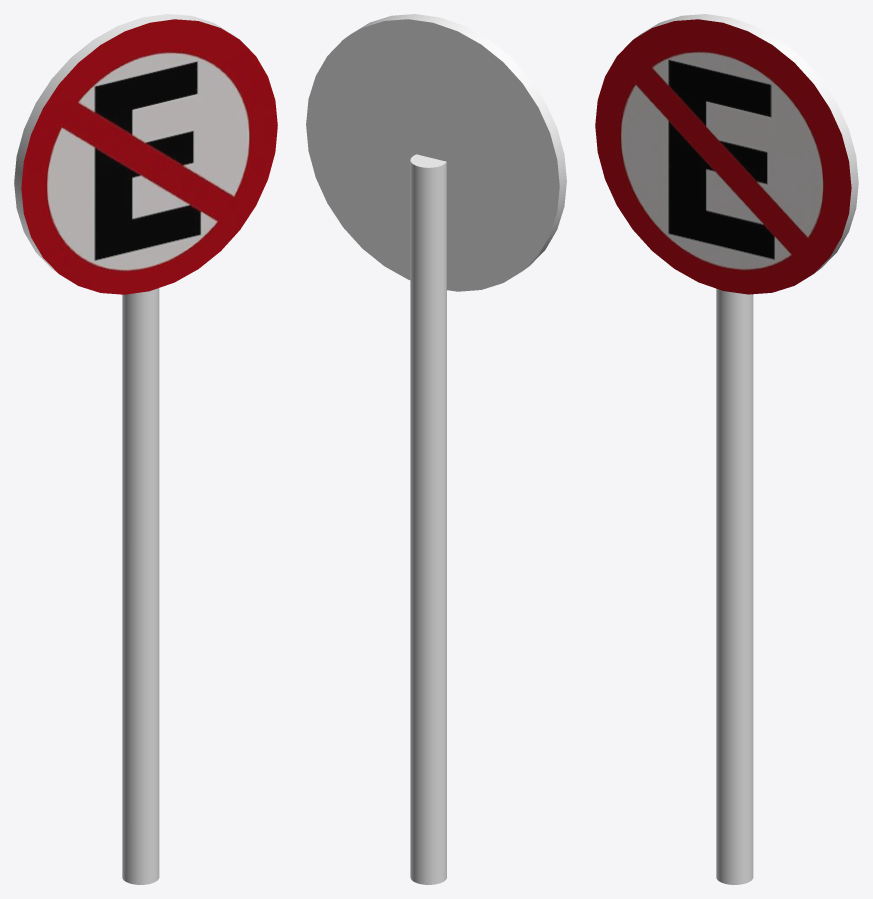
File: PROHIBIDO ESTACIONAR.fbx
3 renders of one model, left to right at view 1: azimuth 30°, elevation 25°; view 2: azimuth 150°, elevation 25°; view 3: azimuth 330°, elevation 25°, orthographic.
Parts seen in each view (by area): view 1: Cylinder.020; view 2: Cylinder.020; view 3: Cylinder.020.
Part boxes in pixels (left/top/right/bottom): Cylinder.020: left=14, top=14, right=277, bottom=884; Cylinder.020: left=306, top=14, right=566, bottom=884; Cylinder.020: left=595, top=14, right=858, bottom=884.
Size of the model in its own units: 80.06 by 257 by 10.47.
Materials: 2 (2 with a texture image).
